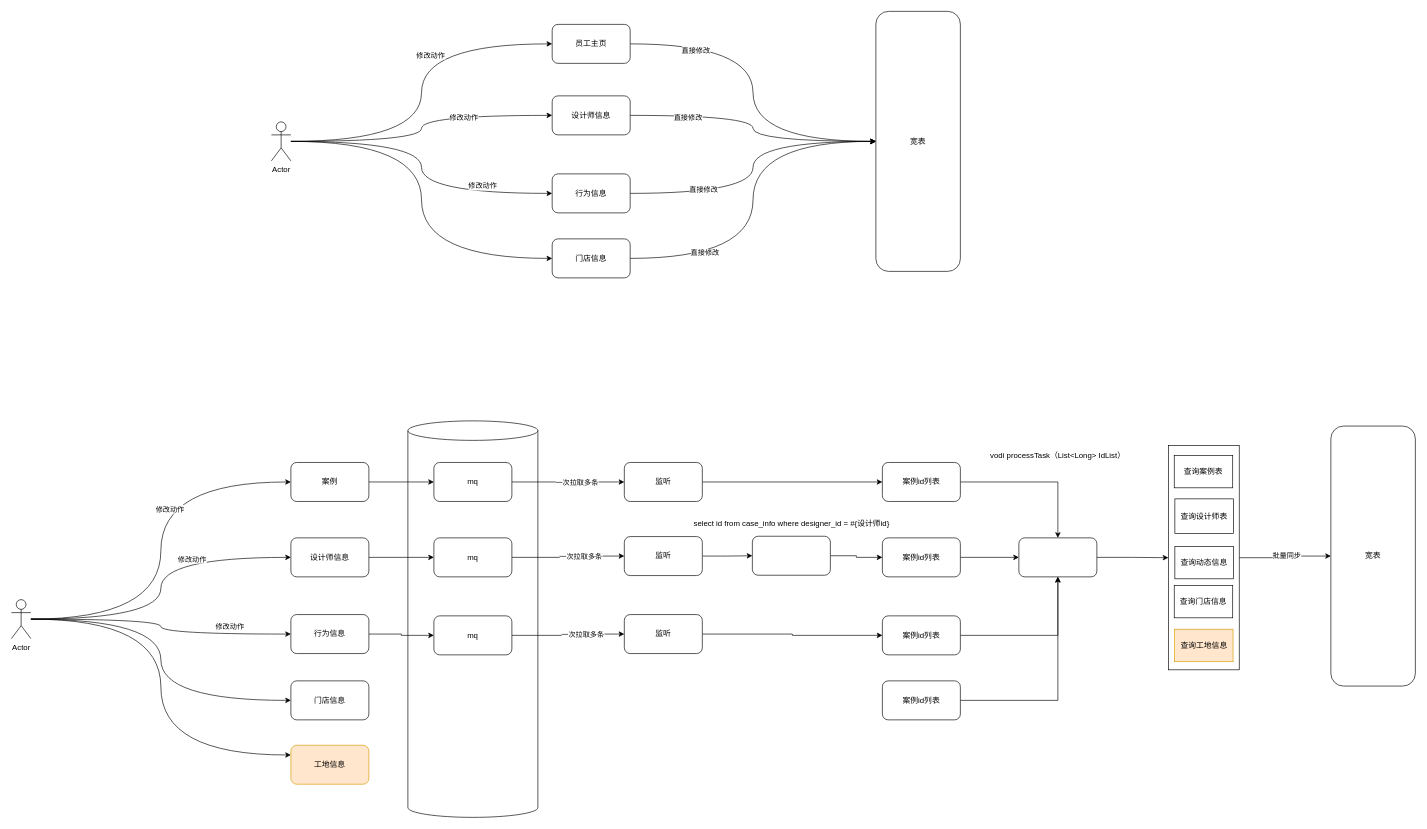
Image size: 1427x829. Some labels were removed from this diagram. Each missing label, with the box of its shape:
反查案例表，获取案例id列表: (752, 536, 830, 575)
处理组装任务: (1018, 537, 1097, 577)
